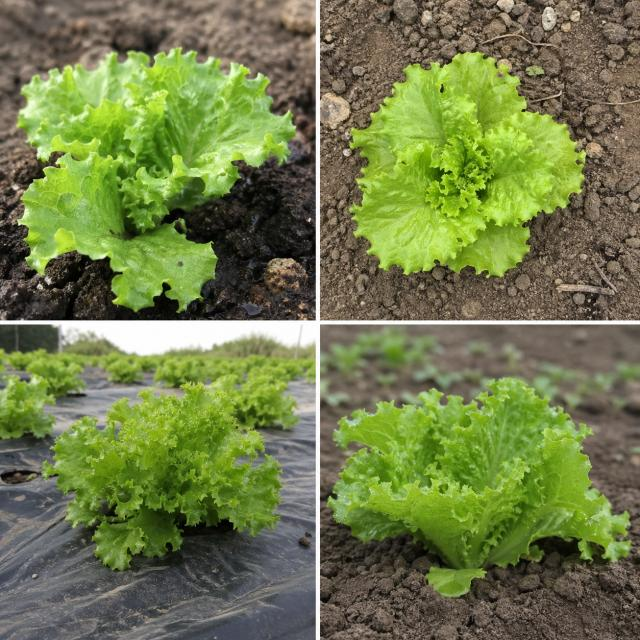inmadura: (18, 48, 295, 311), (328, 378, 631, 596), (350, 53, 585, 277), (41, 382, 282, 570)
